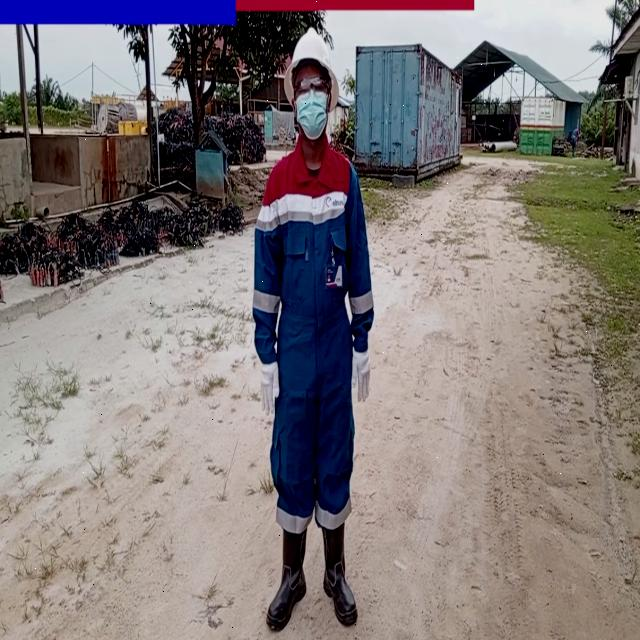Gloves: (262, 366, 282, 416), (353, 348, 369, 405)
Hardhat: (284, 29, 344, 104)
Mask: (297, 94, 329, 142)
Overall Suit: (254, 148, 376, 527)
Safety Boots: (268, 521, 308, 634), (324, 529, 360, 625)
